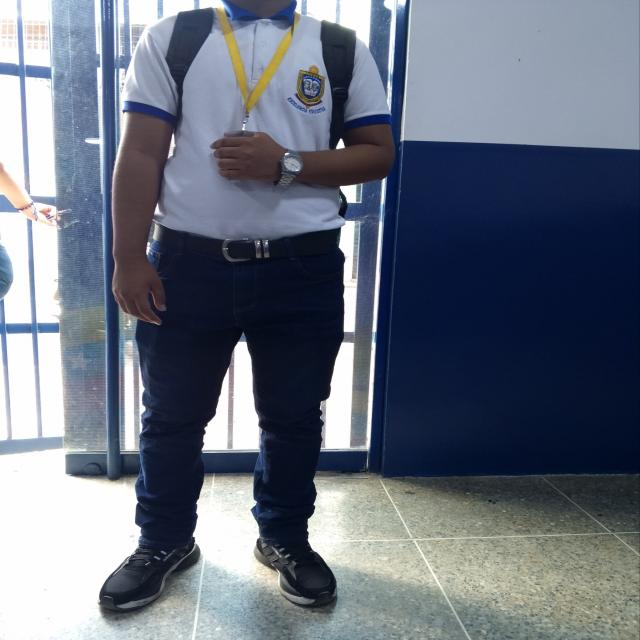pantalon_oscuro: (134, 241, 346, 550)
uniforme_superior: (127, 0, 394, 242)
